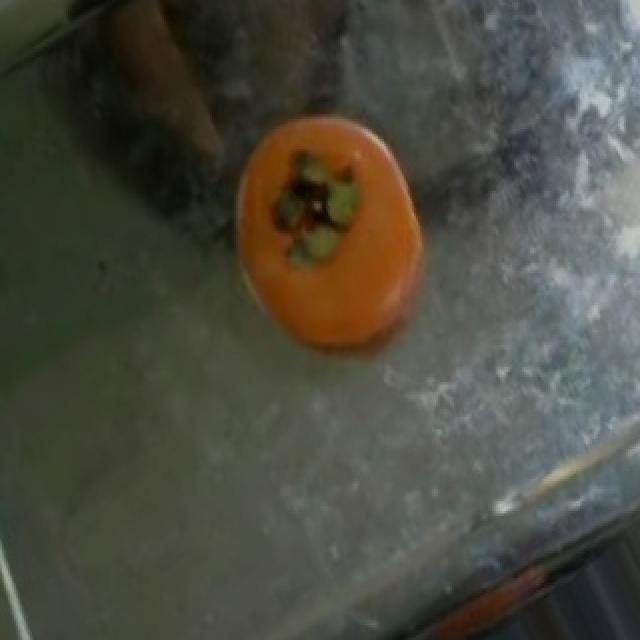Fruit: (204, 87, 460, 384)
